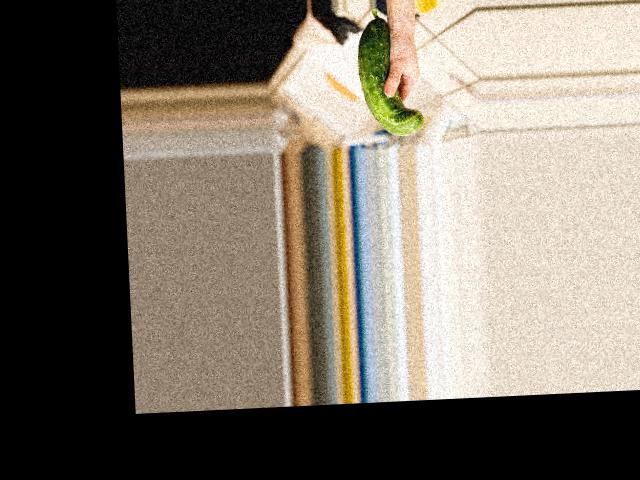cucumber: (354, 7, 424, 138)
